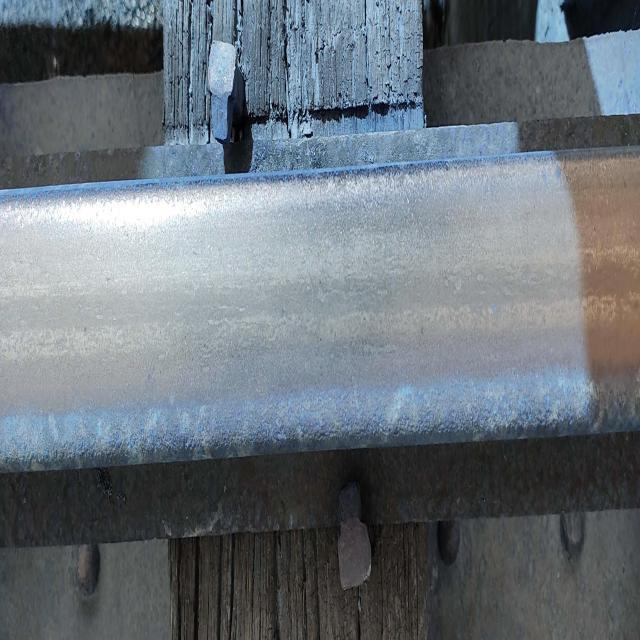Good Fasteners: (337, 483, 371, 589), (208, 41, 238, 144)
